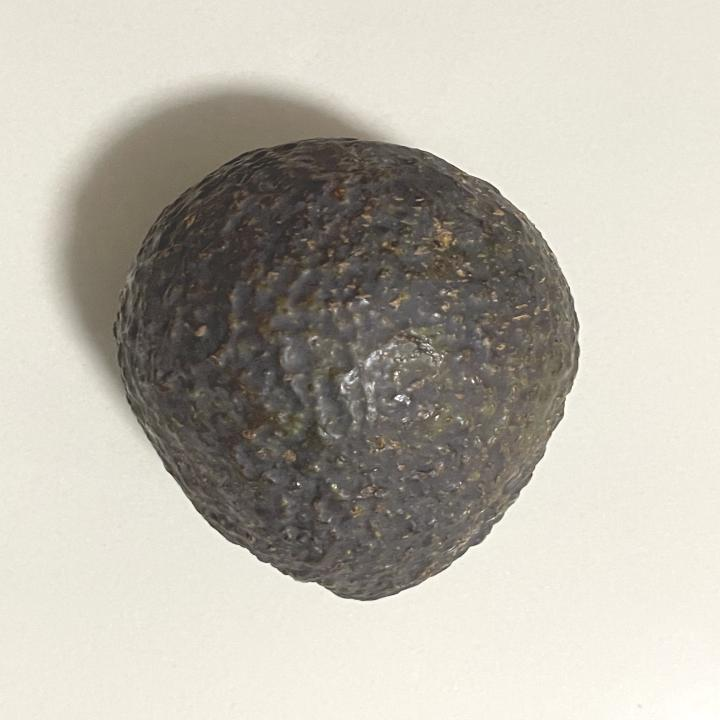Level3: (105, 131, 590, 613)
